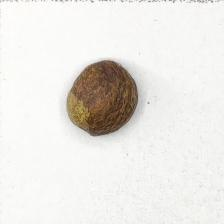NG: (66, 91, 100, 138)
